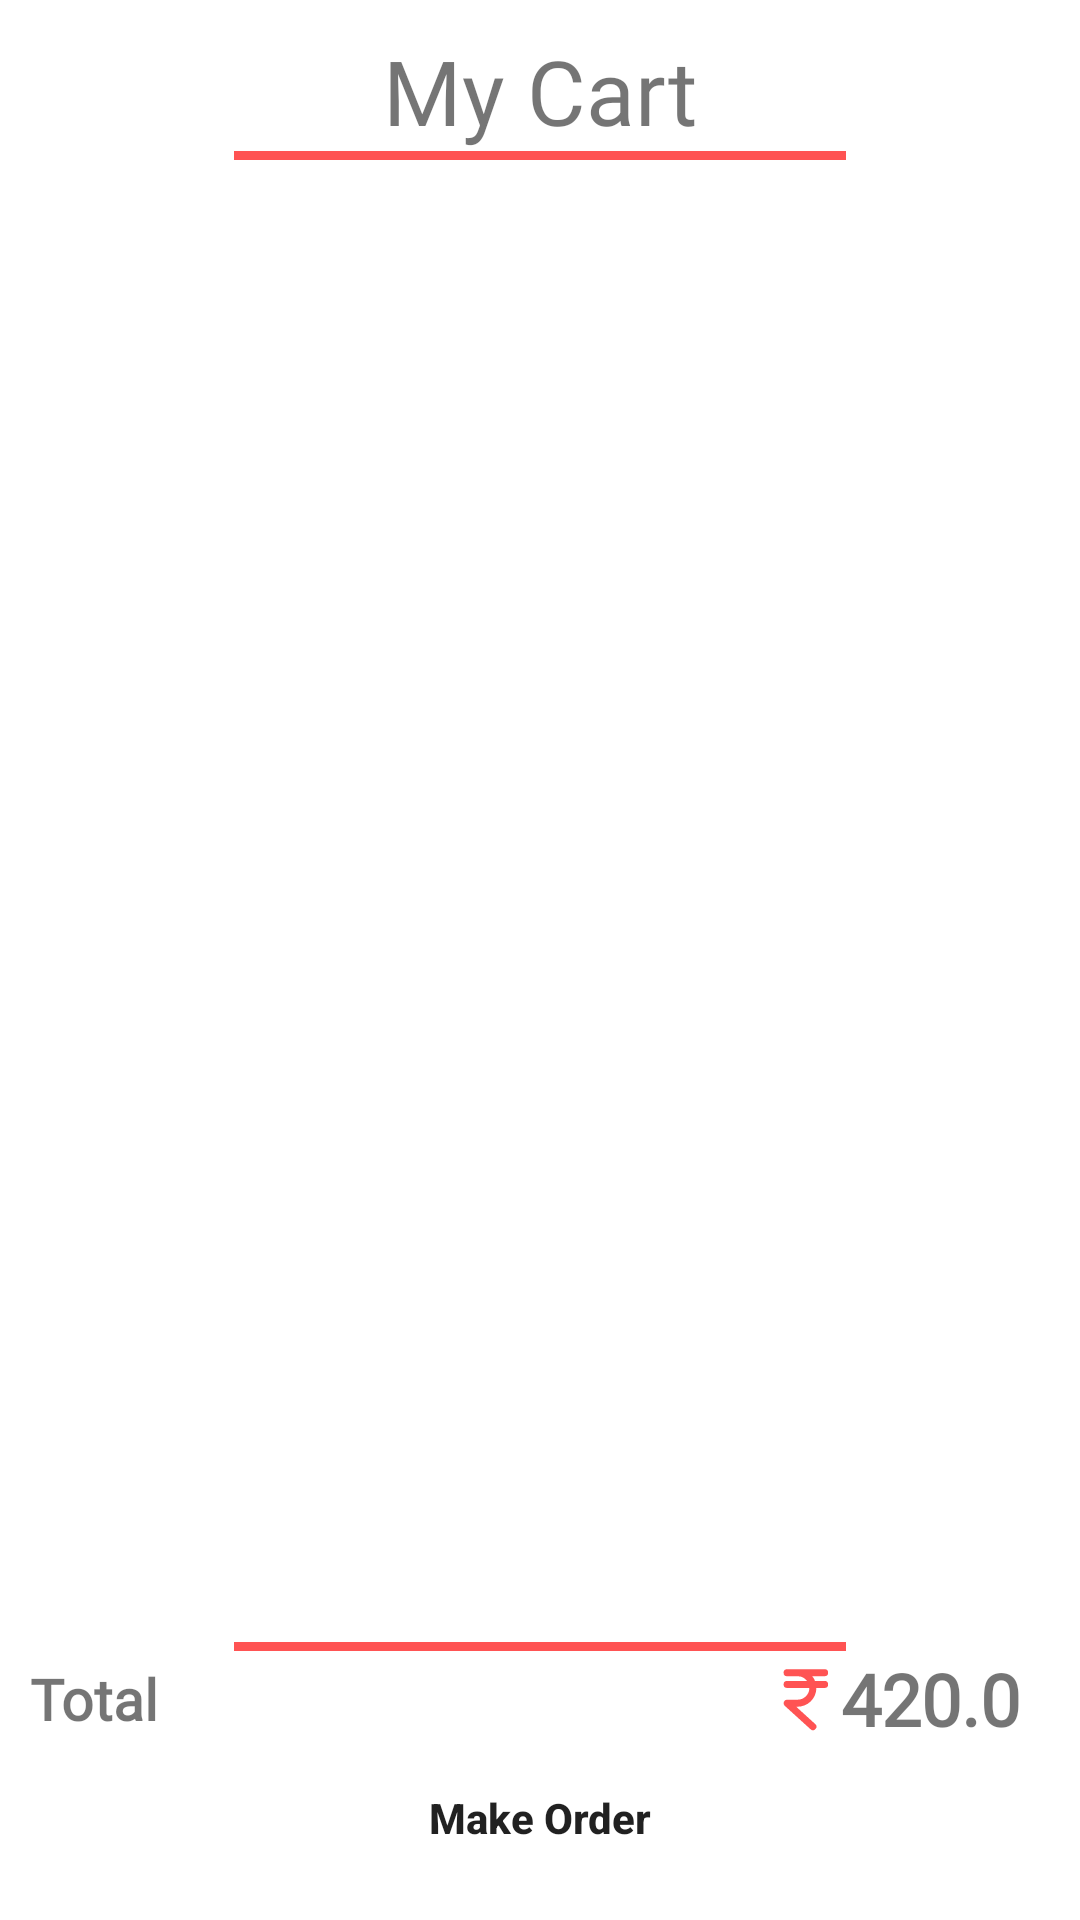

Icon click points for this 1080 × 1920 phone screenshot, format [x,y]:
inr: [805,1700]
